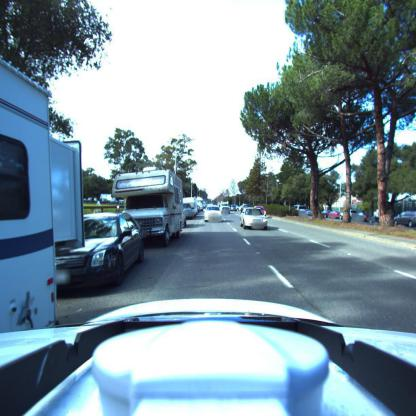car: (56, 212, 145, 289), (241, 207, 268, 230), (394, 211, 416, 228), (183, 199, 199, 219), (294, 204, 314, 219), (205, 204, 221, 221), (322, 209, 341, 220)
truck: (111, 171, 186, 246)
